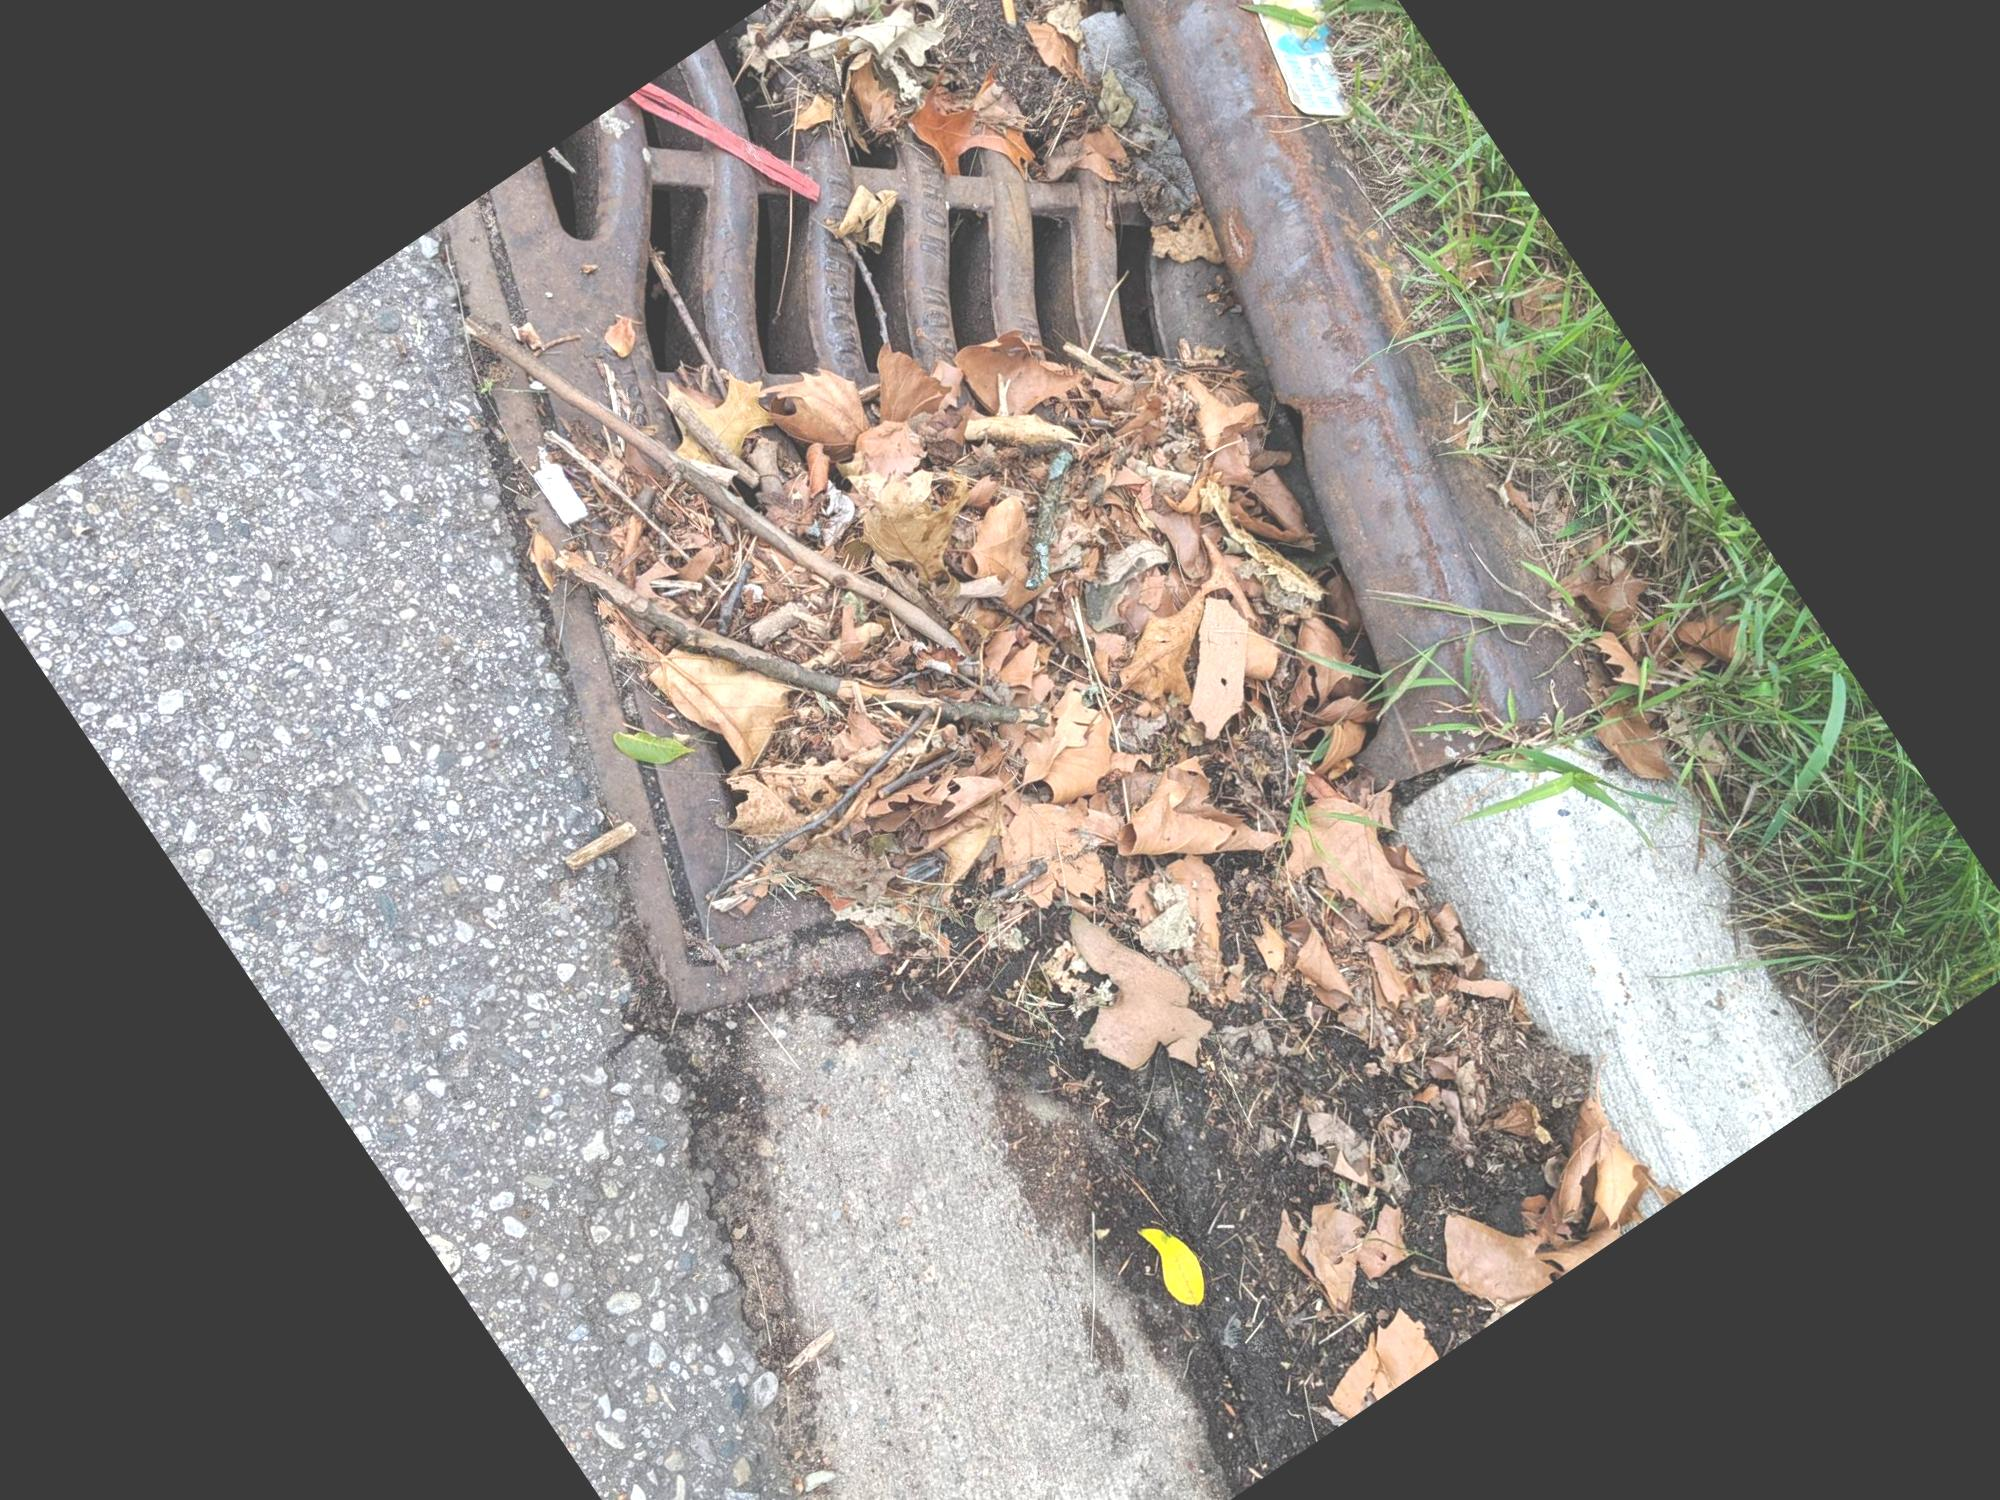Blocked drain: (293, 0, 1789, 1500)
